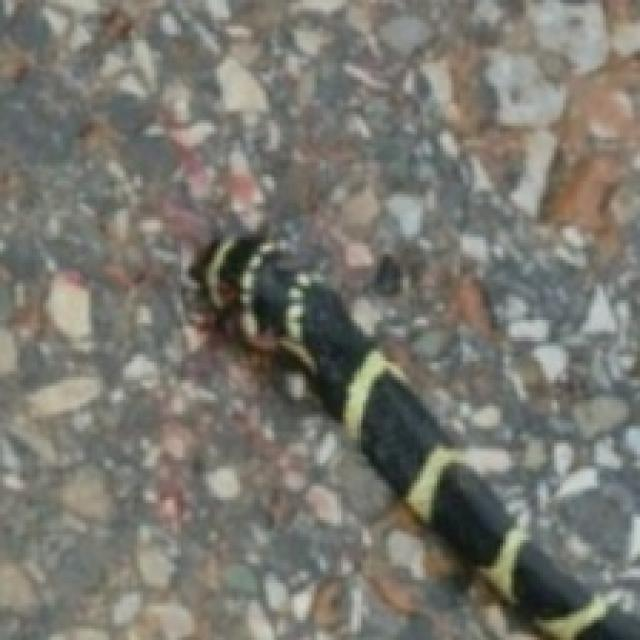king cobra: (191, 237, 637, 637)
